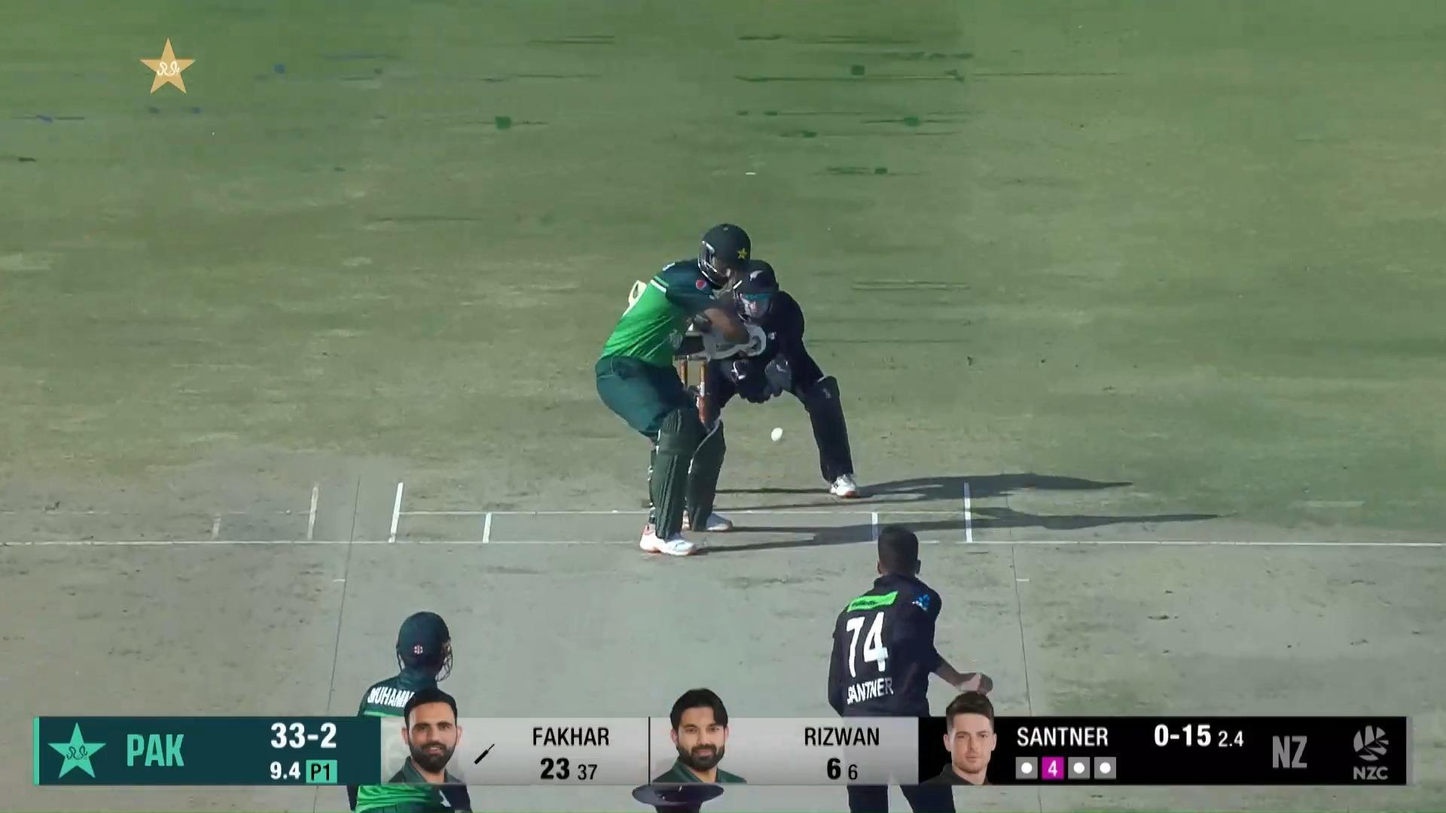BM 1: (595, 220, 769, 557)
BO: (824, 523, 996, 813)
